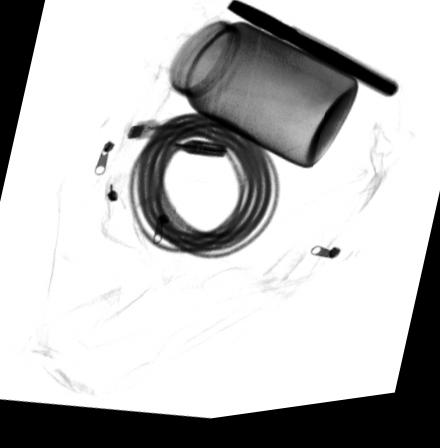Pliers: (224, 4, 400, 108)
